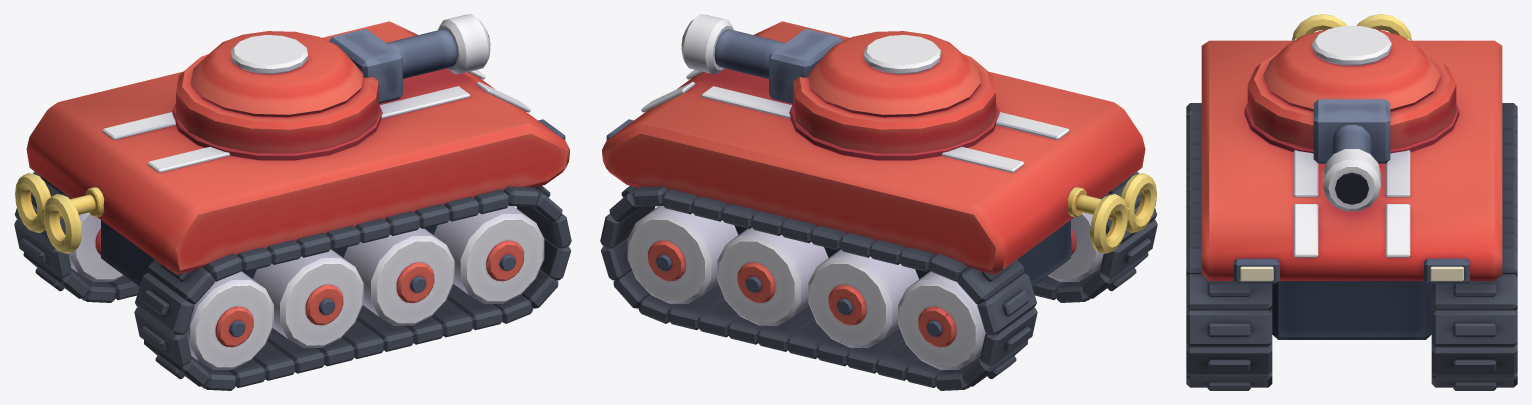
Rendered from enemy_toytank.glb.
3 renders of one model, left to right at view 1: azimuth 30°, elevation 25°; view 2: azimuth 150°, elevation 25°; view 3: azimuth 270°, elevation 25°, orthographic. The views are drawn at different scales.
Visible parts, largest first — view 1: hull, turret; view 2: hull, turret; view 3: hull, turret.
Boxes of the visible parts, x1=… form: hull: x1=14, y1=21, x2=571, y2=390; turret: x1=172, y1=14, x2=490, y2=160; hull: x1=600, y1=21, x2=1157, y2=390; turret: x1=681, y1=14, x2=999, y2=160; hull: x1=1186, y1=14, x2=1517, y2=390; turret: x1=1244, y1=26, x2=1459, y2=211.
Size of the model in its own units: 3.61 by 1.9 by 2.16.
2 materials, 2 textured.
